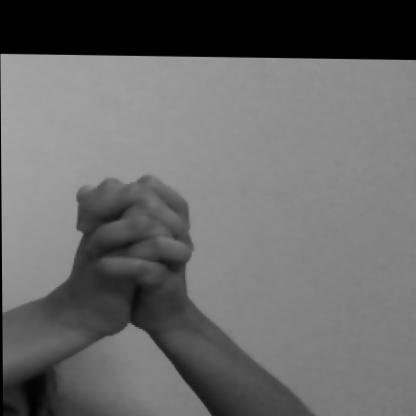prayer: (7, 155, 255, 361)
